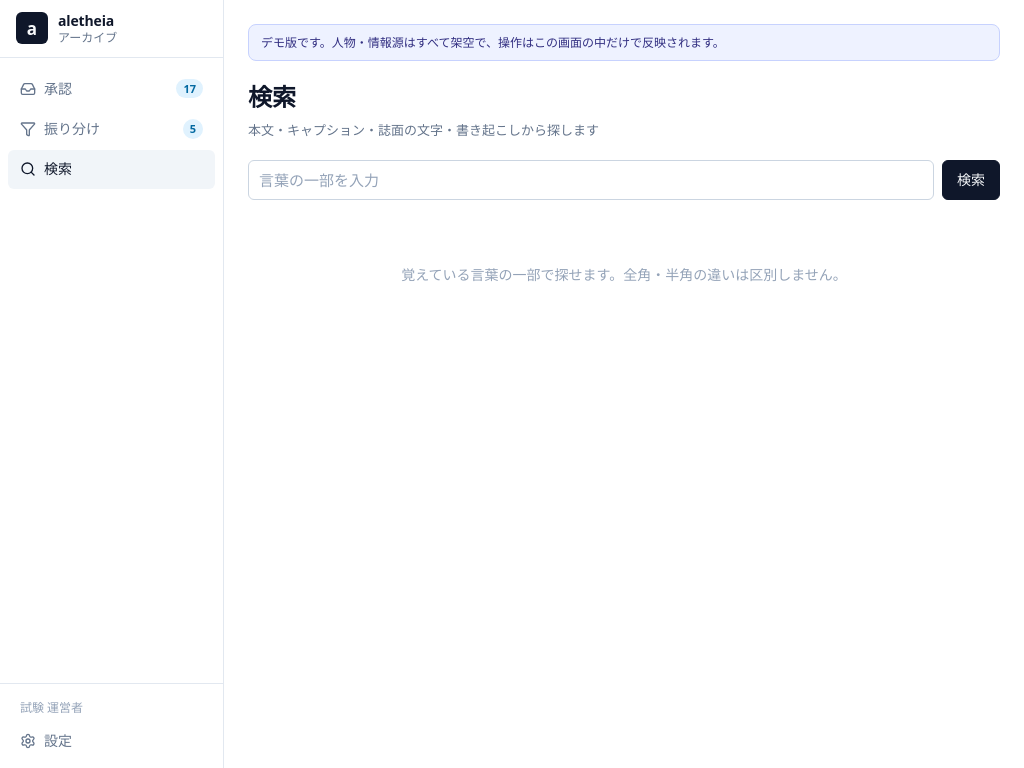
Scenario: 探す・投稿 › 言葉で探し、投稿を開くと、素材を元の順番で見られる
Type "深呼吸" into the search field at (591,180), box [248,160,934,200]
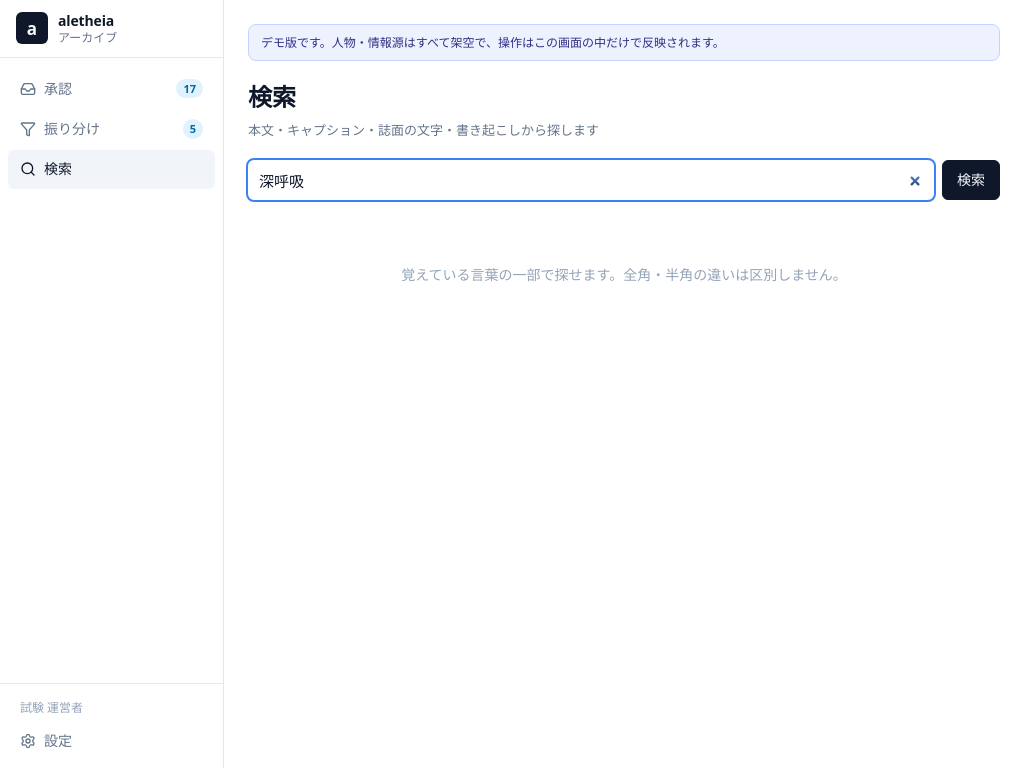
Click the button "検索" at (971,180), box [942,160,1000,200]
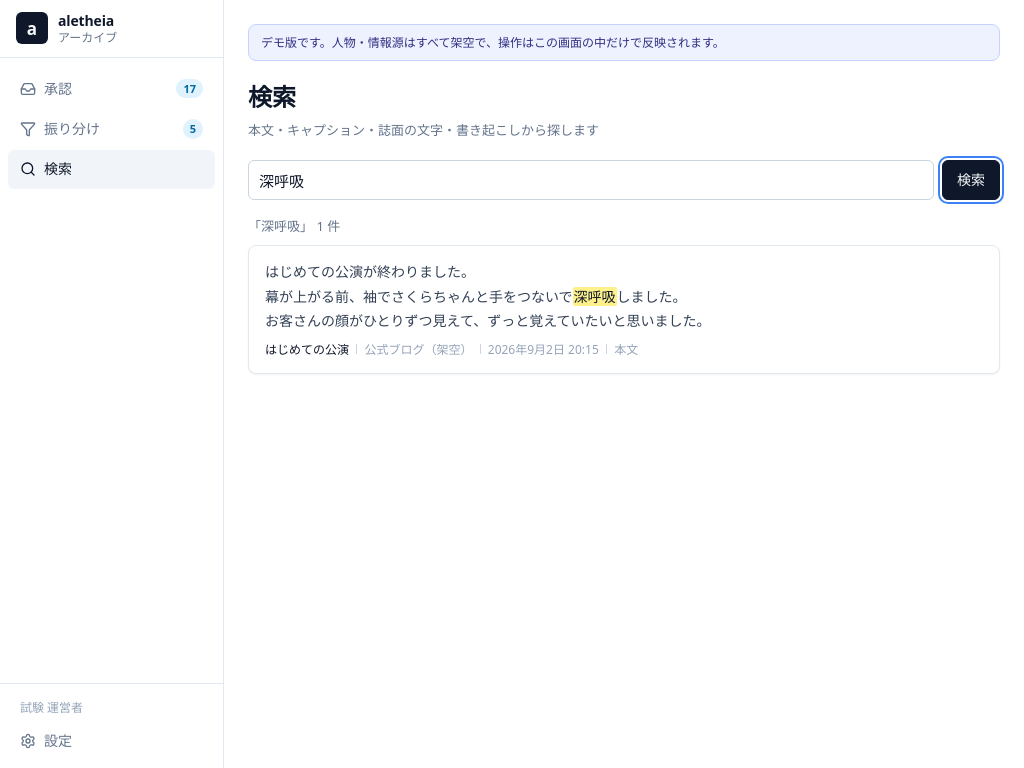
Click the link "はじめての公演" at (307,349), box [265,341,349,358]
(page scrolled)
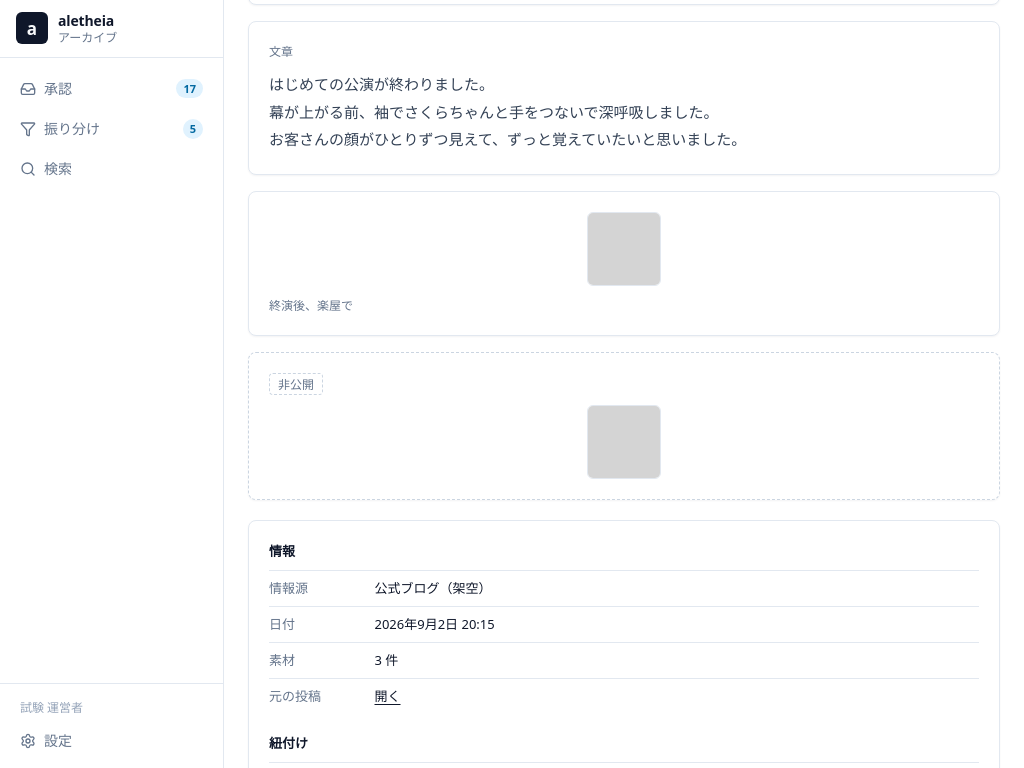
Result: the text "終演後、楽屋で" is shown at [269,297,353,314]
Result: the text "非公開" is shown at [269,373,323,395]
